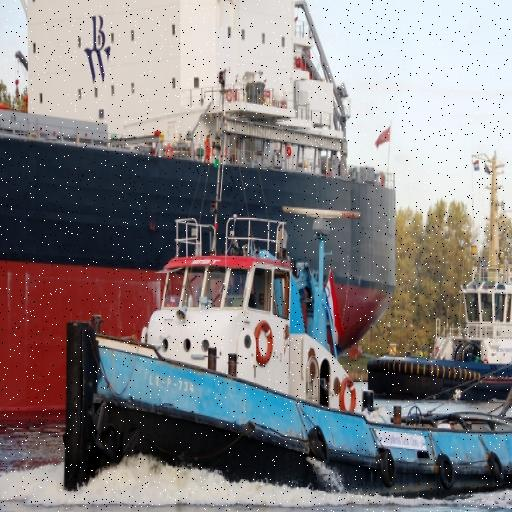tugboat: (59, 198, 512, 512)
